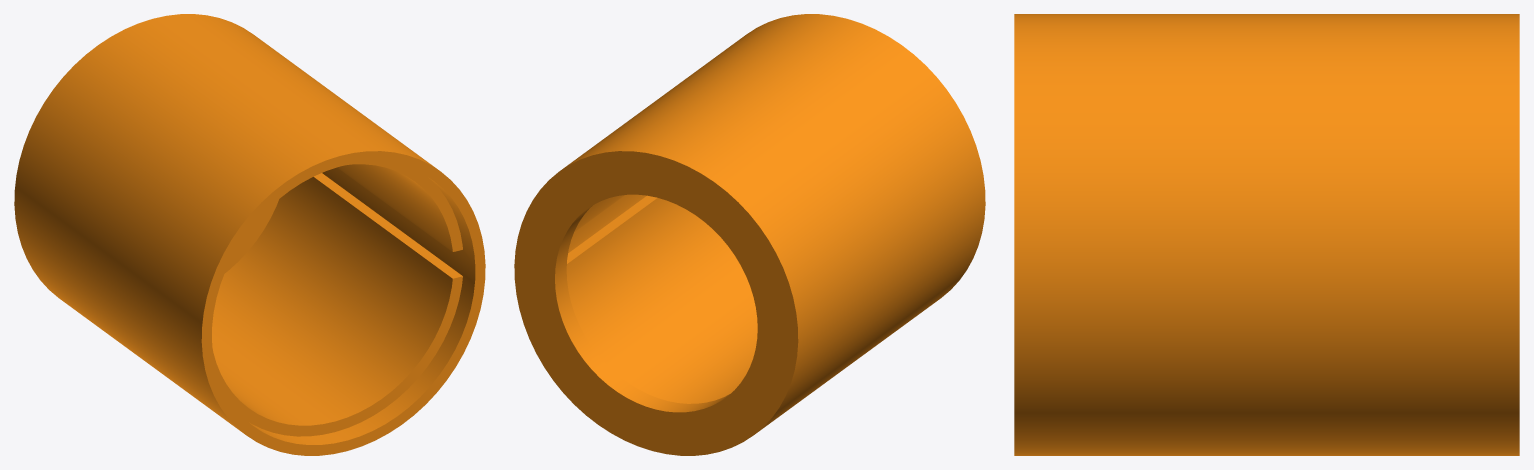
Rendered from vessel.obj.
3 views of the same model, side by side, from view 1: azimuth 30°, elevation 25°; view 2: azimuth 150°, elevation 25°; view 3: azimuth 270°, elevation 25° (orthographic). The views are drawn at different scales.
Visible parts, largest first — view 1: instance_0_ID5, instance_0.001_ID13; view 2: instance_0_ID5, instance_0.001_ID13, instance_0.002_ID19; view 3: instance_0_ID5.
Boxes of the visible parts, box(x1,y1,x2,y2) form: instance_0_ID5: box(14, 14, 485, 455); instance_0.001_ID13: box(212, 162, 475, 444); instance_0_ID5: box(514, 14, 985, 455); instance_0.001_ID13: box(566, 194, 757, 403); instance_0.002_ID19: box(555, 205, 729, 412); instance_0_ID5: box(1014, 14, 1519, 455).
Bounding box in the file's own units: 1.75 × 1.75 × 2.
